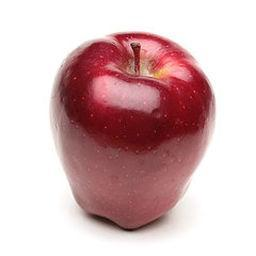apple: (49, 30, 216, 227)
